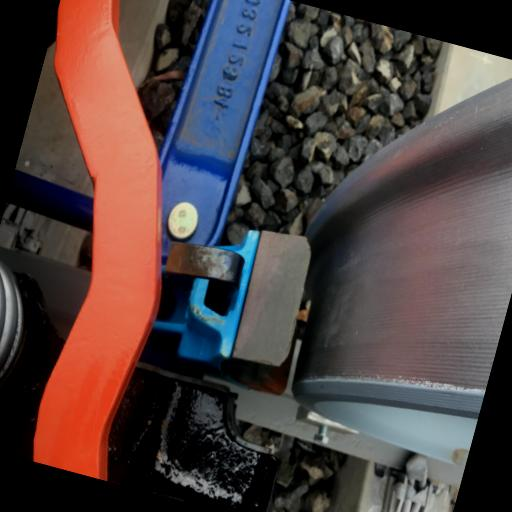corrosion: (165, 240, 209, 277), (191, 307, 222, 328), (296, 308, 308, 321)
